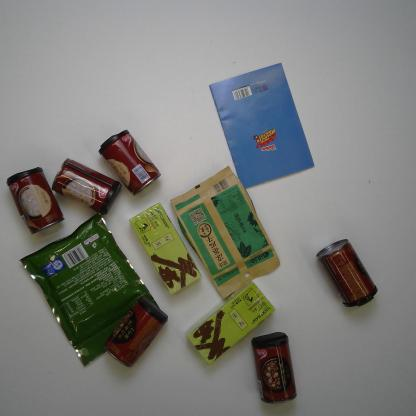Canned Food: (102, 294, 168, 369), (97, 128, 162, 198), (315, 237, 379, 308), (50, 156, 123, 217), (5, 166, 66, 236), (250, 331, 299, 406)
Dried Food: (168, 164, 282, 301)
Dried Fruit: (16, 211, 162, 368)
Instant Drink: (185, 280, 276, 367), (128, 201, 204, 296)
Stationery: (208, 62, 315, 190)
